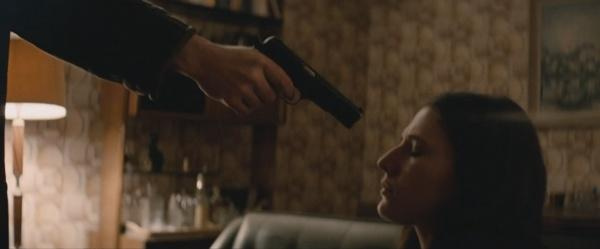Gun: (249, 34, 363, 128)
